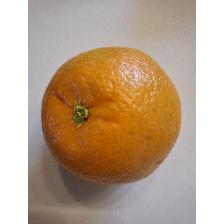Orange: (38, 43, 186, 185)
